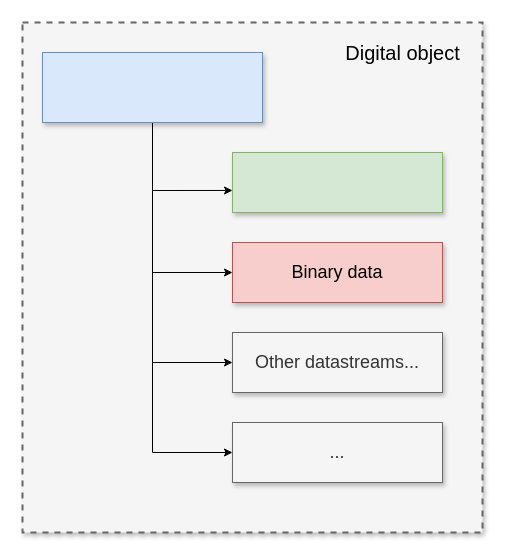
The diagram is 506 pixels wide and 558 high, and some of its shapes have lost their labels. The shapes that lost their labels are listed below. From the top down, each one's centre as x and y in pixels, then its label:
point 153,89: Preservation and system metadata
point 338,184: Bibliographic metadata
